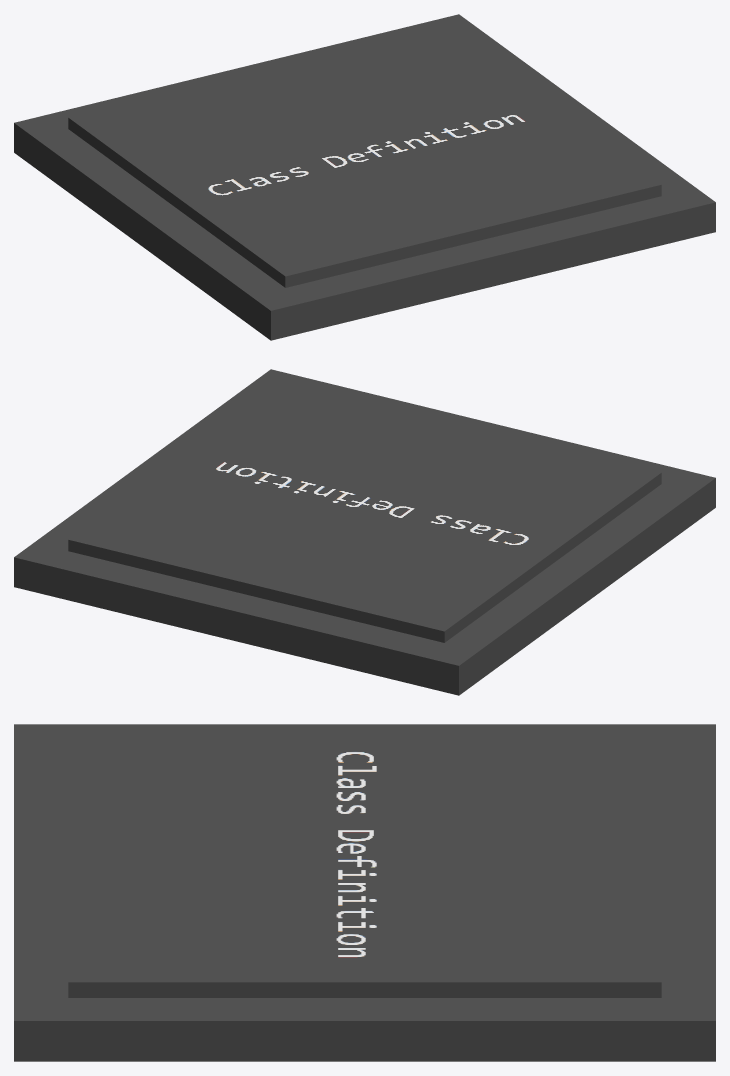
File: lvl1-tile1.fbx
3 views of the same model, one above another, from view 1: azimuth 30°, elevation 25°; view 2: azimuth 150°, elevation 25°; view 3: azimuth 270°, elevation 25° (orthographic). The views are drawn at different scales.
Visible parts, largest first — view 1: Cube; view 2: Cube; view 3: Cube.
Boxes of the visible parts, x1,y1,x2,y2 form: Cube: [14, 14, 715, 340]; Cube: [14, 369, 715, 695]; Cube: [14, 724, 715, 1061].
Size of the model in its own units: 200 by 17.74 by 200.
